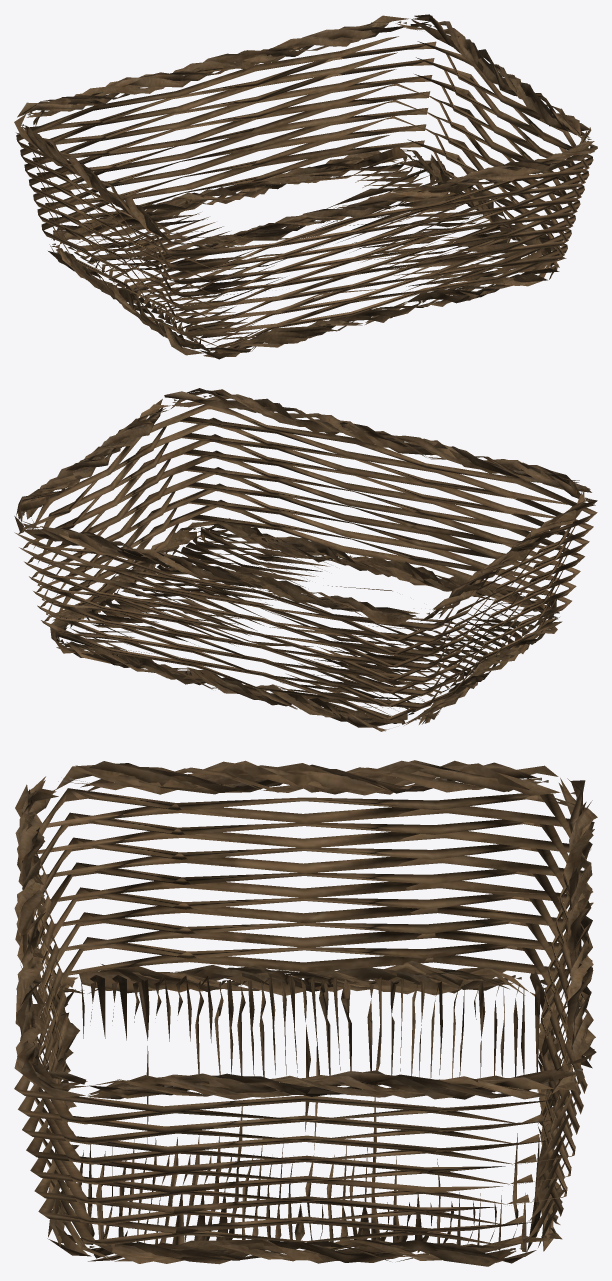
Rendered from wicker_basket_01.glb.
The picture shows the model from 3 angles, top to bottom: view 1: azimuth 30°, elevation 25°; view 2: azimuth 150°, elevation 25°; view 3: azimuth 270°, elevation 25°; orthographic projection. The views are drawn at different scales.
Parts seen in each view (by area): view 1: wicker_basket_01; view 2: wicker_basket_01; view 3: wicker_basket_01.
Part boxes in pixels (left/top/right/bottom): wicker_basket_01: left=14, top=14, right=597, bottom=359; wicker_basket_01: left=14, top=388, right=597, bottom=731; wicker_basket_01: left=14, top=760, right=597, bottom=1266.
Size of the model in its own units: 0.3837 by 0.1185 by 0.2933.
Materials: 1 (1 with a texture image).
